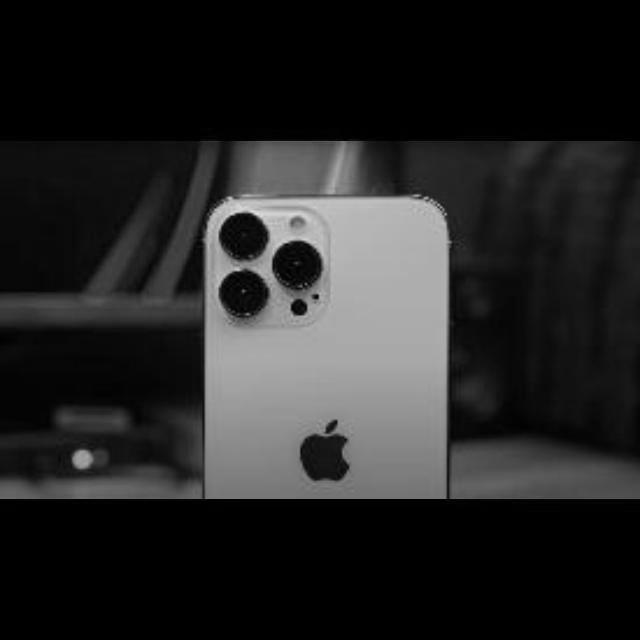fake: (162, 160, 472, 504)
